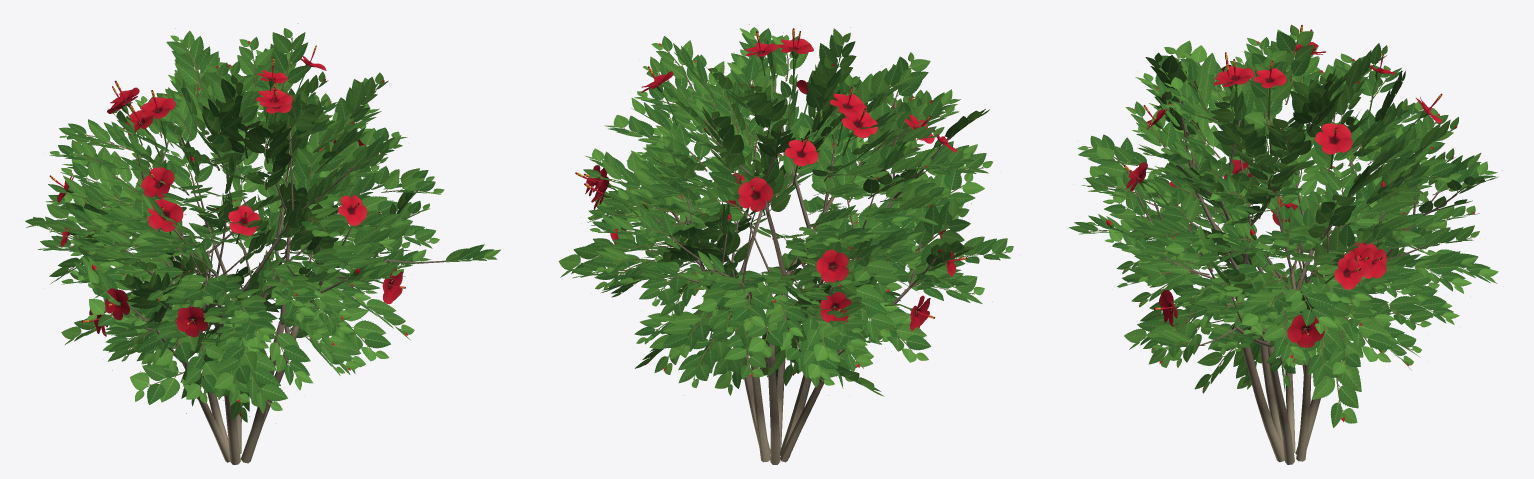
The model's file is Hibiscus_A.gltf.
3 views of the same model, side by side, from view 1: azimuth 30°, elevation 25°; view 2: azimuth 150°, elevation 25°; view 3: azimuth 270°, elevation 25° (orthographic). The views are drawn at different scales.
Visible parts, largest first — view 1: Hibiscus_A; view 2: Hibiscus_A; view 3: Hibiscus_A.
Part boxes in pixels (box(x1,y1,x2,y2)): Hibiscus_A: box(25, 23, 500, 464); Hibiscus_A: box(558, 24, 1013, 464); Hibiscus_A: box(1069, 24, 1502, 464).
Bounding box in the file's own units: 1.89 × 1.78 × 1.82.
Materials: 3 (3 with a texture image).
